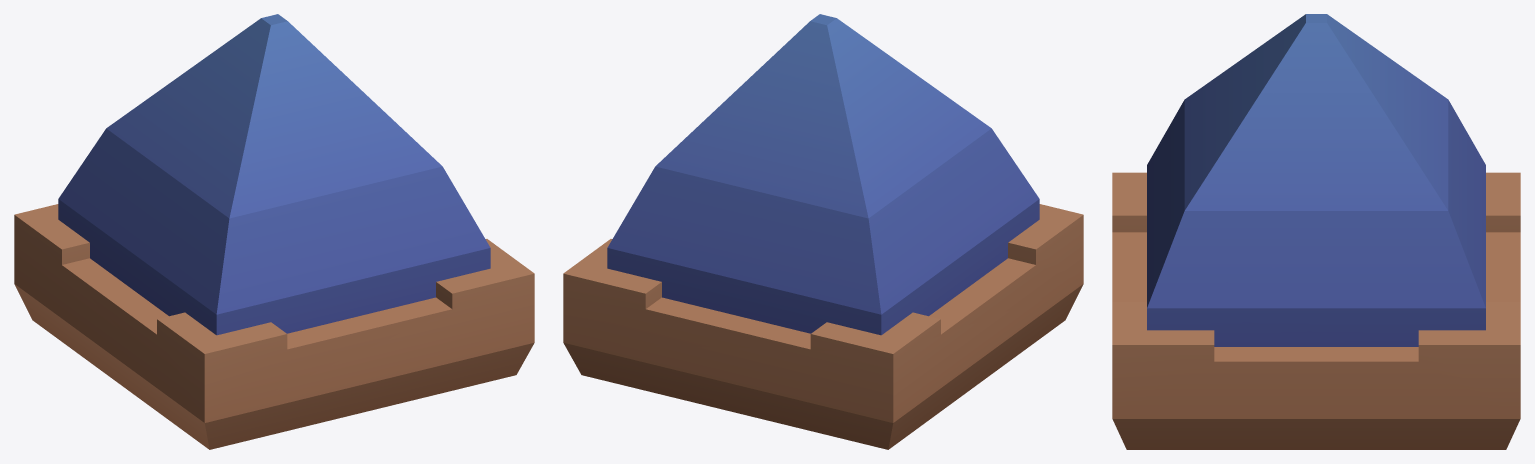
The model's file is tower-square-top-roof-rounded.glb.
3 renders of one model, left to right at view 1: azimuth 30°, elevation 25°; view 2: azimuth 150°, elevation 25°; view 3: azimuth 270°, elevation 25°, orthographic. The views are drawn at different scales.
Visible parts, largest first — view 1: tower-square-top-roof-rounded; view 2: tower-square-top-roof-rounded; view 3: tower-square-top-roof-rounded.
Part boxes in pixels (bbox=[...]): tower-square-top-roof-rounded: bbox=[14, 14, 534, 449]; tower-square-top-roof-rounded: bbox=[563, 14, 1083, 449]; tower-square-top-roof-rounded: bbox=[1112, 14, 1520, 449].
Size of the model in its own units: 1 by 0.95 by 1.
